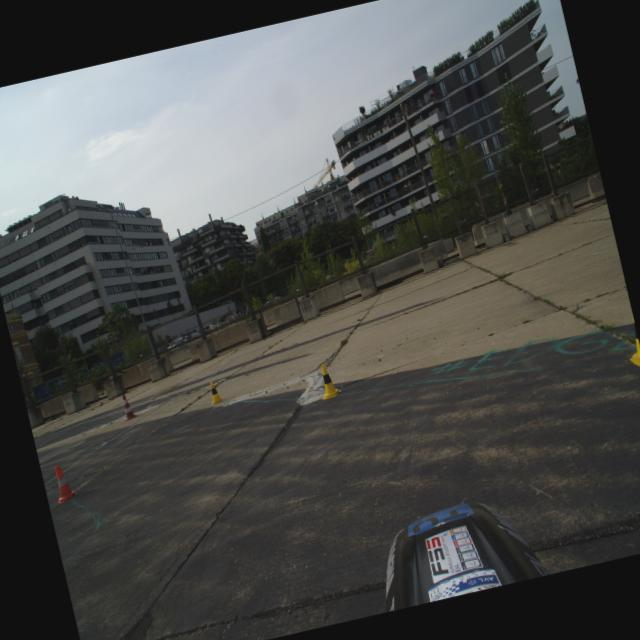large_orange_cone: (118, 391, 138, 421)
orange_cone: (48, 462, 78, 504)
yellow_cone: (617, 305, 640, 370), (314, 360, 343, 400), (205, 378, 225, 406)
